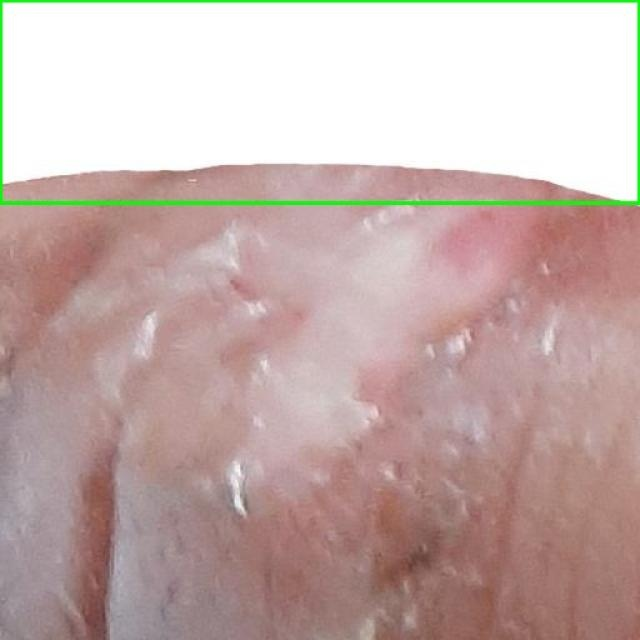Contact Dermatitis: (0, 0, 639, 202)
